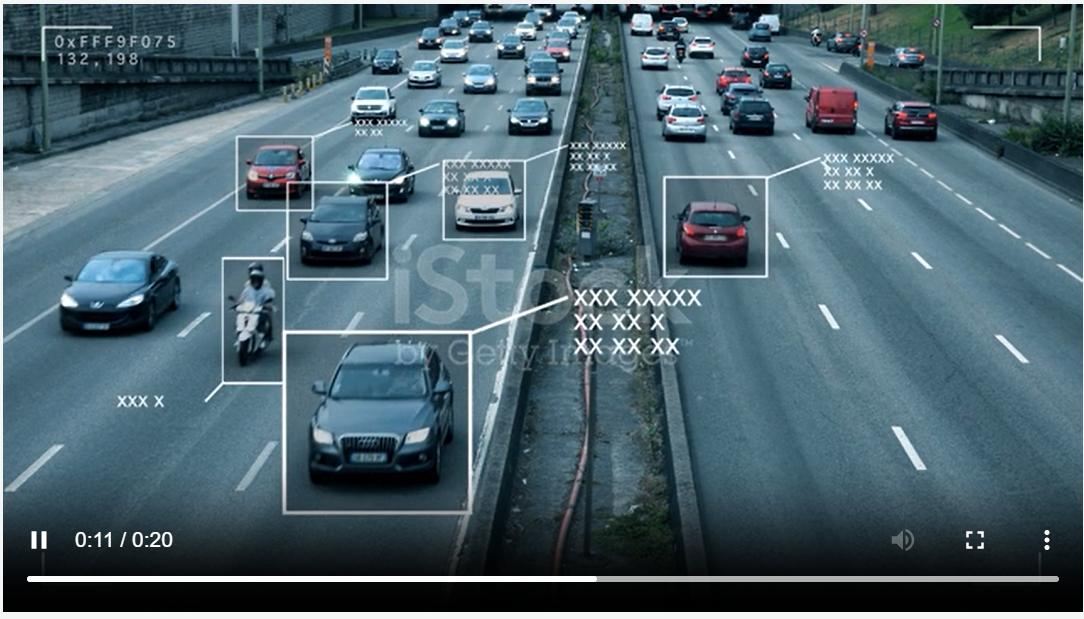car: (301, 337, 466, 498), (39, 240, 191, 341), (294, 190, 387, 281), (673, 193, 761, 270), (235, 133, 312, 218), (441, 169, 525, 237), (796, 81, 875, 145), (331, 155, 426, 208), (498, 89, 563, 143), (880, 93, 945, 145), (654, 96, 719, 145), (409, 98, 477, 143), (339, 82, 405, 128), (726, 93, 779, 137), (523, 58, 567, 96), (402, 56, 447, 90), (462, 60, 494, 100), (757, 62, 798, 93), (683, 34, 722, 64), (721, 82, 758, 113), (370, 45, 404, 77), (638, 44, 676, 72), (714, 66, 749, 95), (823, 28, 857, 56), (496, 32, 526, 62), (888, 46, 926, 68), (541, 39, 573, 64), (416, 22, 442, 52), (442, 36, 468, 65), (468, 20, 494, 49), (512, 16, 538, 44), (437, 17, 464, 43), (742, 42, 770, 67), (630, 12, 655, 39), (554, 17, 582, 38), (748, 20, 772, 43), (656, 20, 677, 42)
motorcycle: (223, 253, 277, 386), (676, 36, 688, 69), (807, 30, 823, 47)
